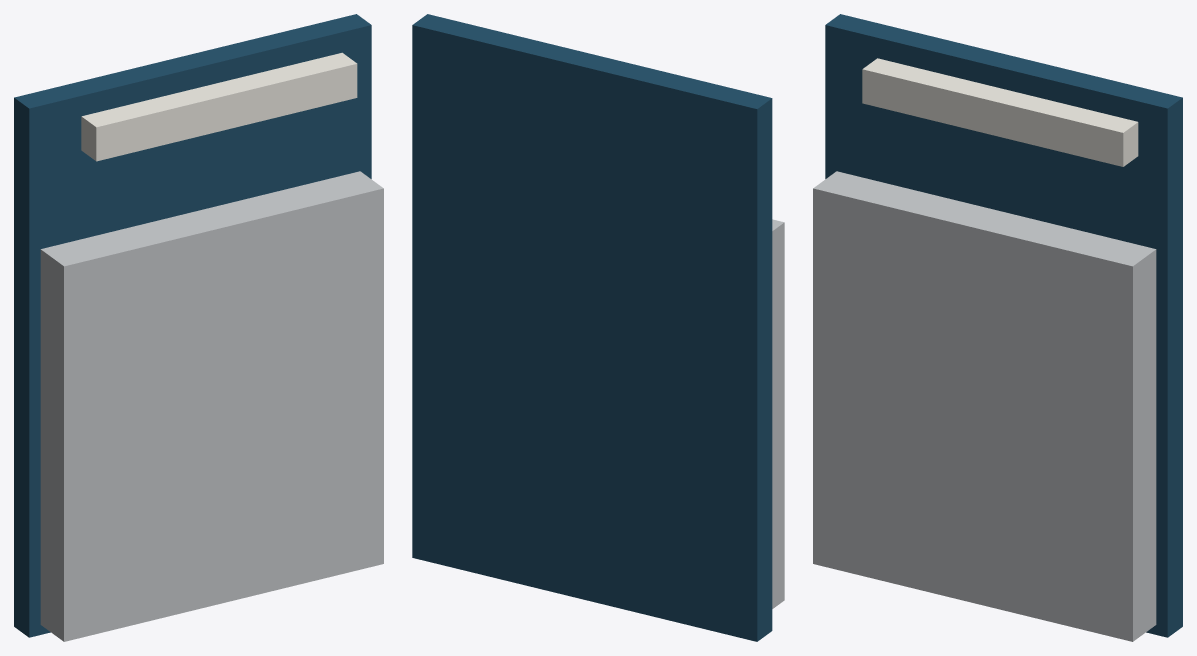
The model's file is mdbt50q.glb.
3 renders of one model, left to right at view 1: azimuth 30°, elevation 25°; view 2: azimuth 150°, elevation 25°; view 3: azimuth 330°, elevation 25°, orthographic.
Visible parts, largest first — view 1: MDBT50Q; view 2: MDBT50Q; view 3: MDBT50Q.
Part boxes in pixels (x1,y1,x2,y2): MDBT50Q: (14, 14, 383, 641); MDBT50Q: (412, 14, 784, 641); MDBT50Q: (813, 14, 1182, 641).
Size of the model in its own units: 10.5 by 15.5 by 2.05.
